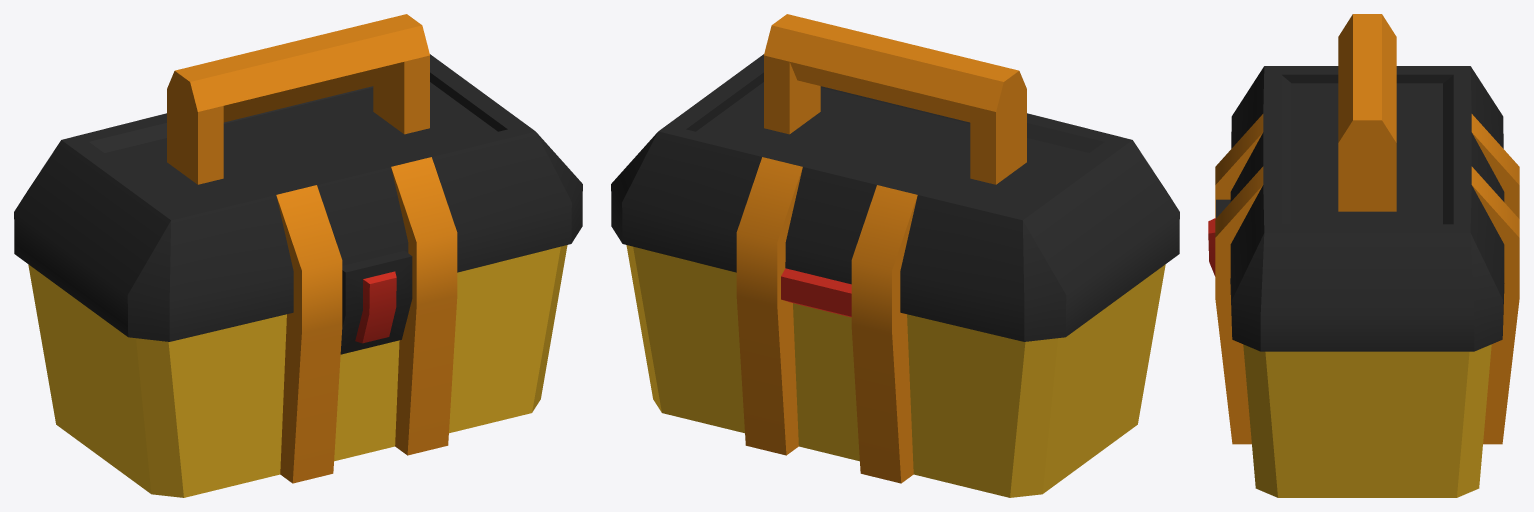
Rendered from toolbox.glb.
3 views of the same model, side by side, from view 1: azimuth 30°, elevation 25°; view 2: azimuth 150°, elevation 25°; view 3: azimuth 270°, elevation 25° (orthographic). The views are drawn at different scales.
Parts seen in each view (by area): view 1: mesh_toolbox_01; view 2: mesh_toolbox_01; view 3: mesh_toolbox_01.
Boxes of the visible parts, left/top/right/bottom form: mesh_toolbox_01: left=14, top=14, right=582, bottom=497; mesh_toolbox_01: left=611, top=14, right=1179, bottom=497; mesh_toolbox_01: left=1208, top=14, right=1519, bottom=497.
Size of the model in its own units: 0.6189 by 0.4729 by 0.3907.
Materials: 1 (1 with a texture image).
